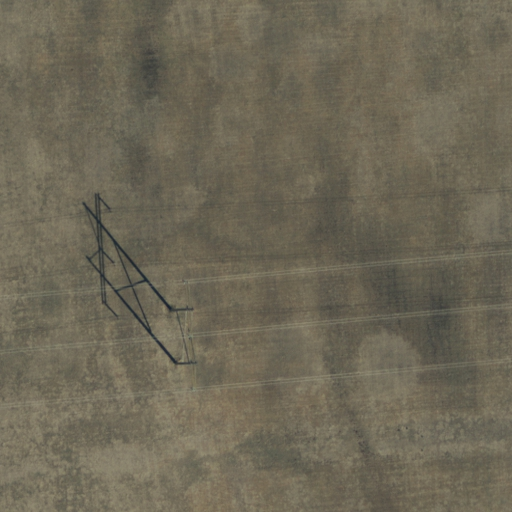TT: (164, 273, 207, 409)
